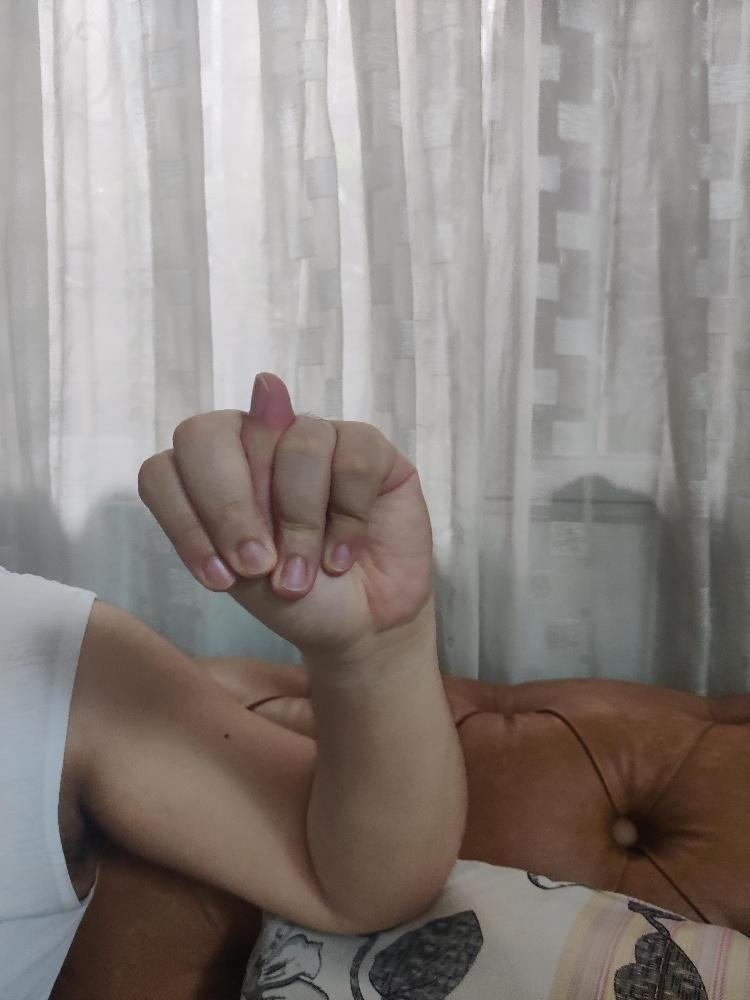n: (135, 370, 434, 644)
